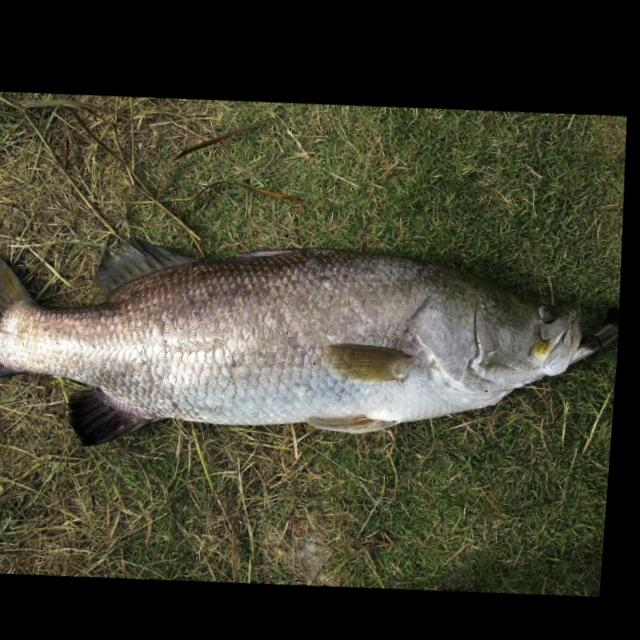Seabass: (0, 210, 608, 490)
